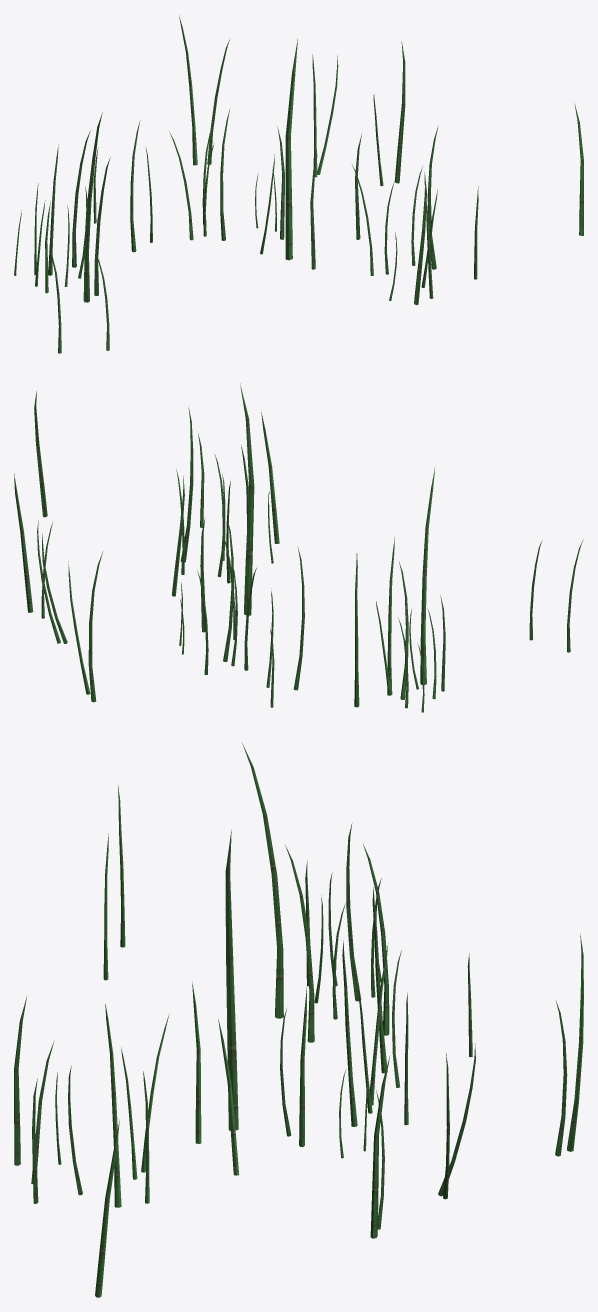
File: Area_07_3.fbx
3 renders of one model, top to bottom at view 1: azimuth 30°, elevation 25°; view 2: azimuth 150°, elevation 25°; view 3: azimuth 270°, elevation 25°, orthographic. The views are drawn at different scales.
Parts seen in each view (by area): view 1: Area_07_3; view 2: Area_07_3; view 3: Area_07_3.
Boxes of the visible parts, x1,y1,x2,y2 form: Area_07_3: (14,15,583,353); Area_07_3: (14,383,583,712); Area_07_3: (14,743,583,1297).
Bounding box in the file's own units: 7320 × 3129 × 4893.
